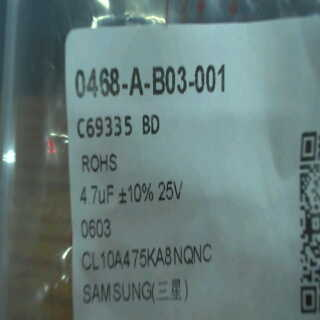4.7uF: (80, 177, 118, 208)
